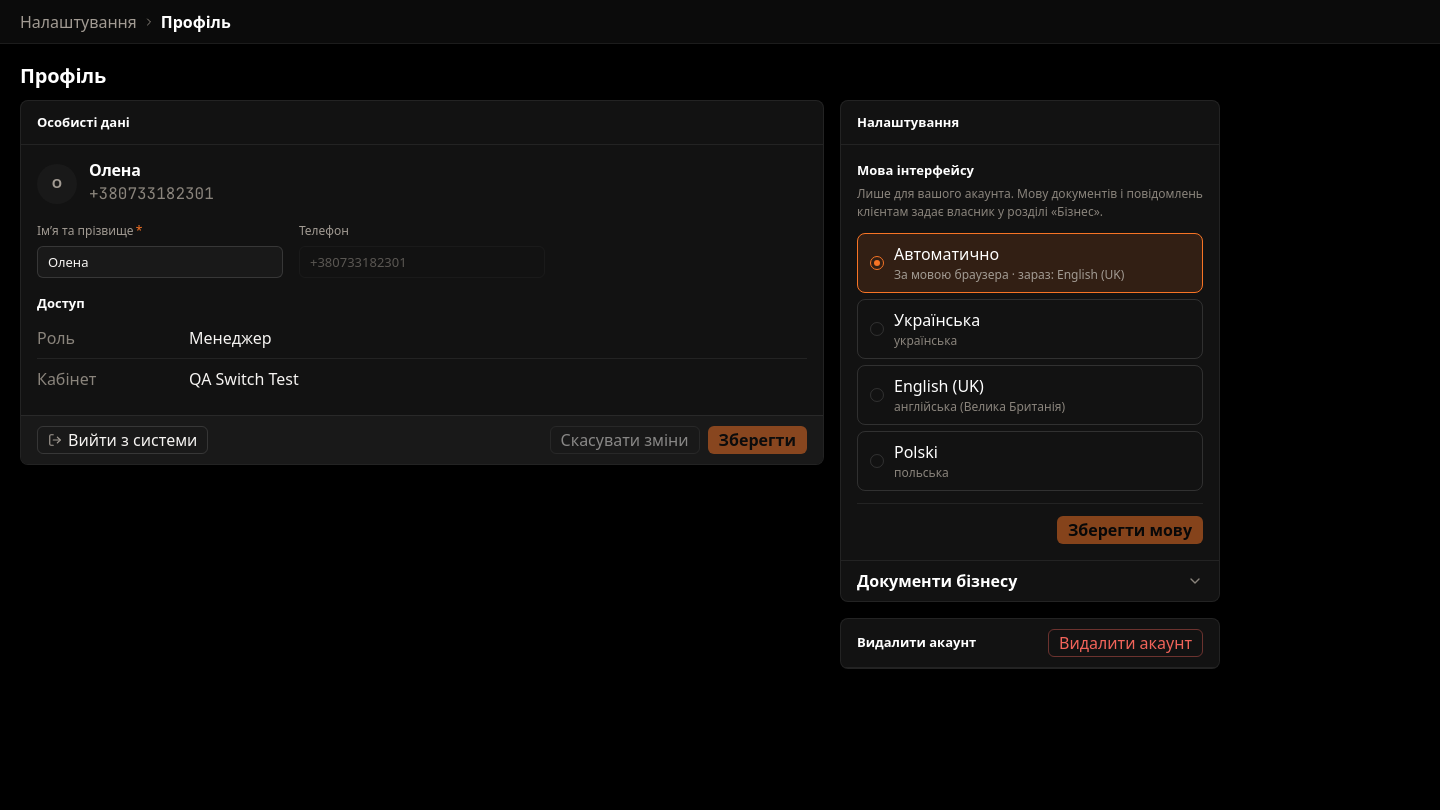
publishes save completion after the StrictMode effect replay
Replace the text in the field labelled "Ім’я та прізвище" with "Ім’я в StrictMode": coordinates (160, 262) [37, 246, 283, 278]
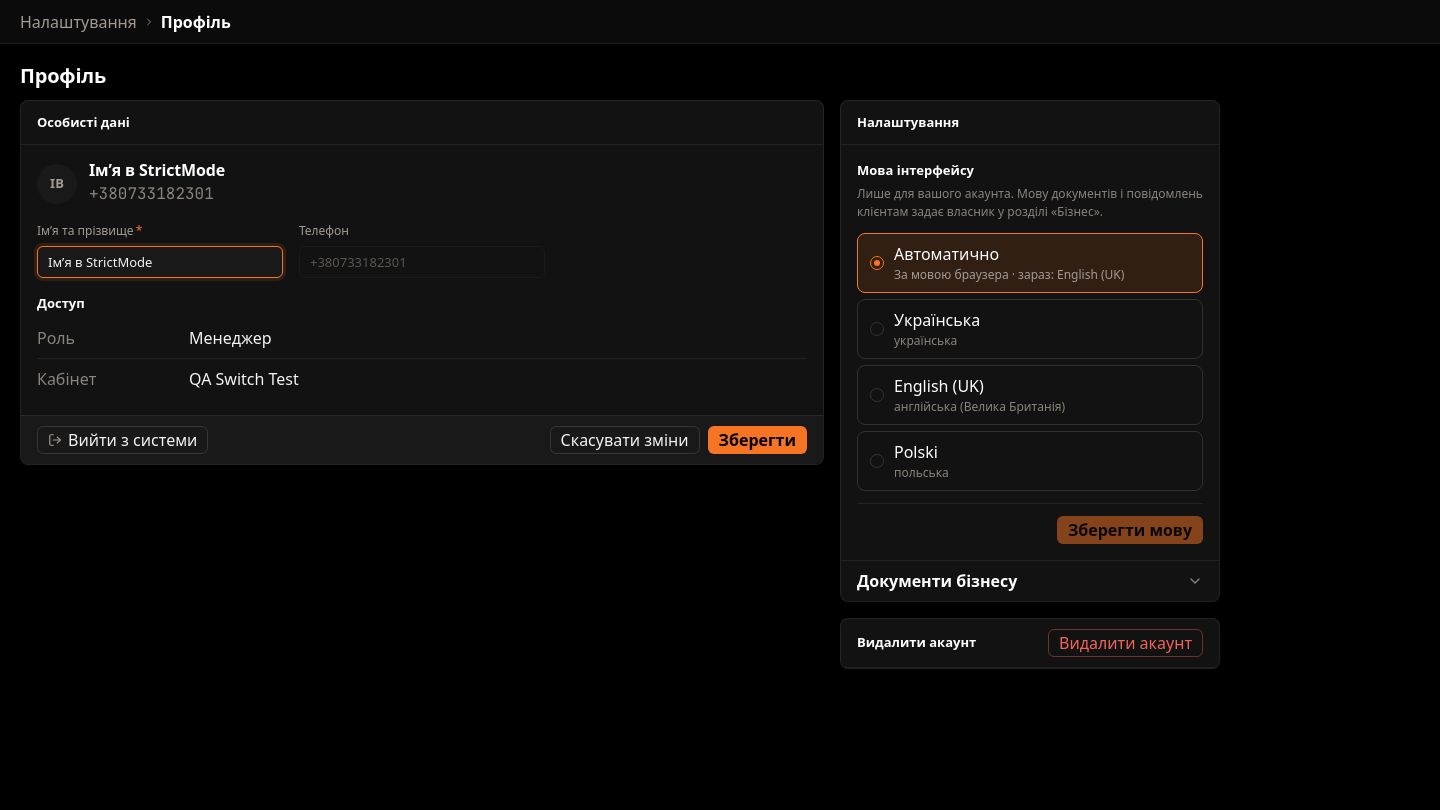
Click the button "Зберегти": coordinates (757, 440) [708, 426, 807, 454]
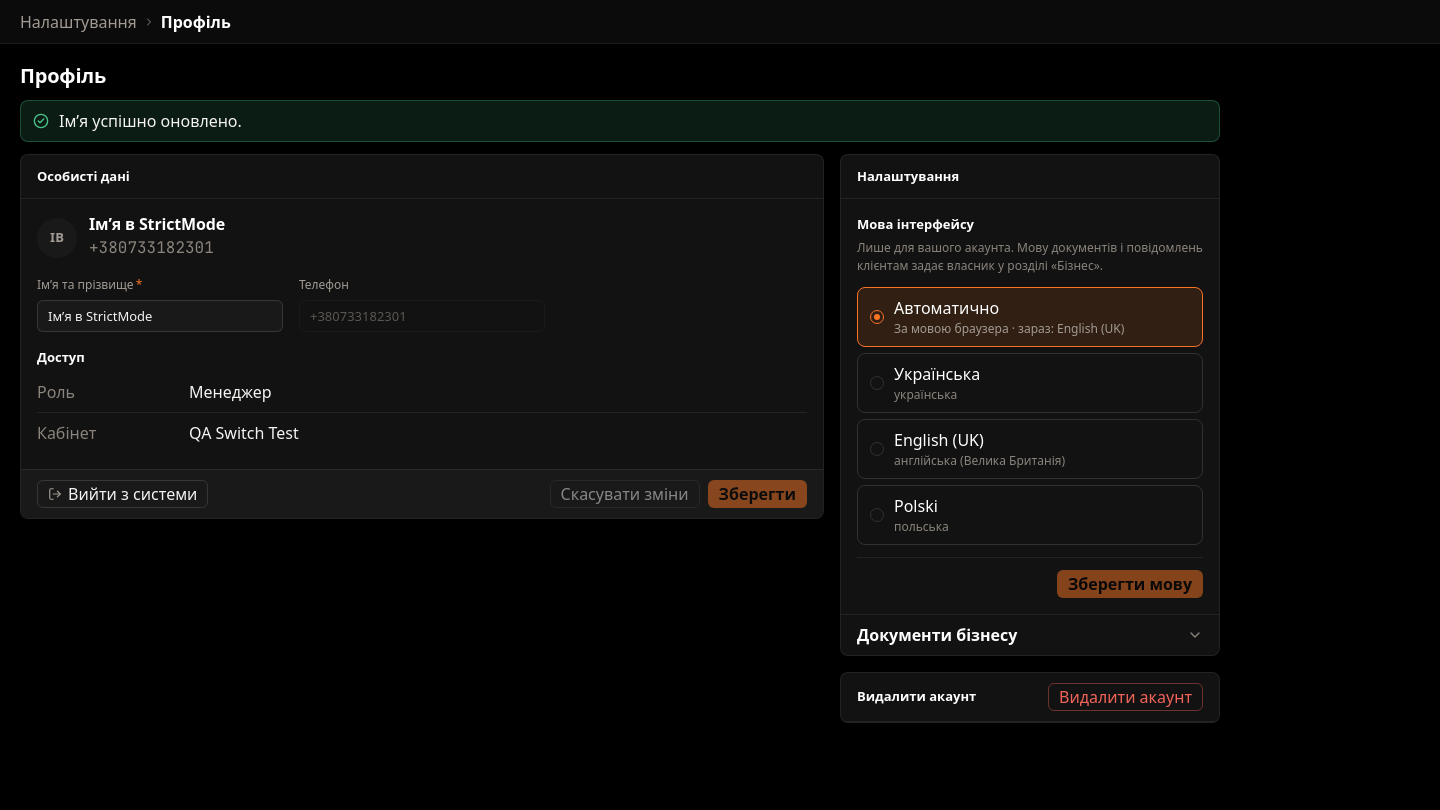
Check: the message reads "Ім’я успішно оновлено.", box [59, 110, 242, 132]
